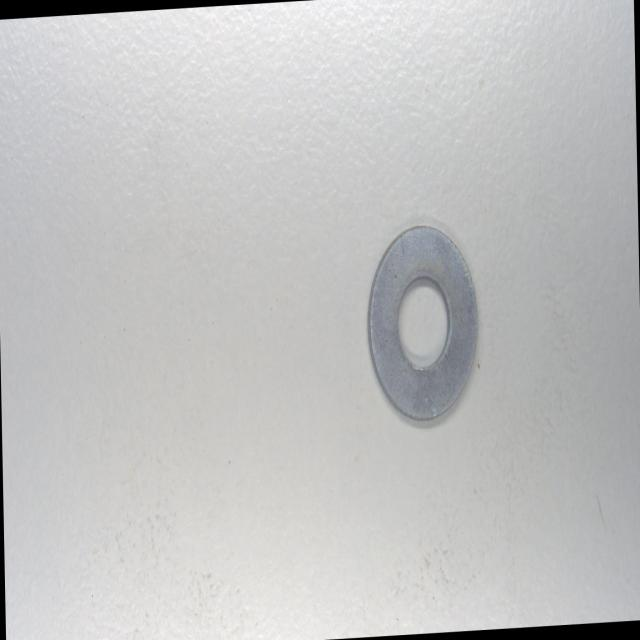washer: (365, 224, 483, 431)
